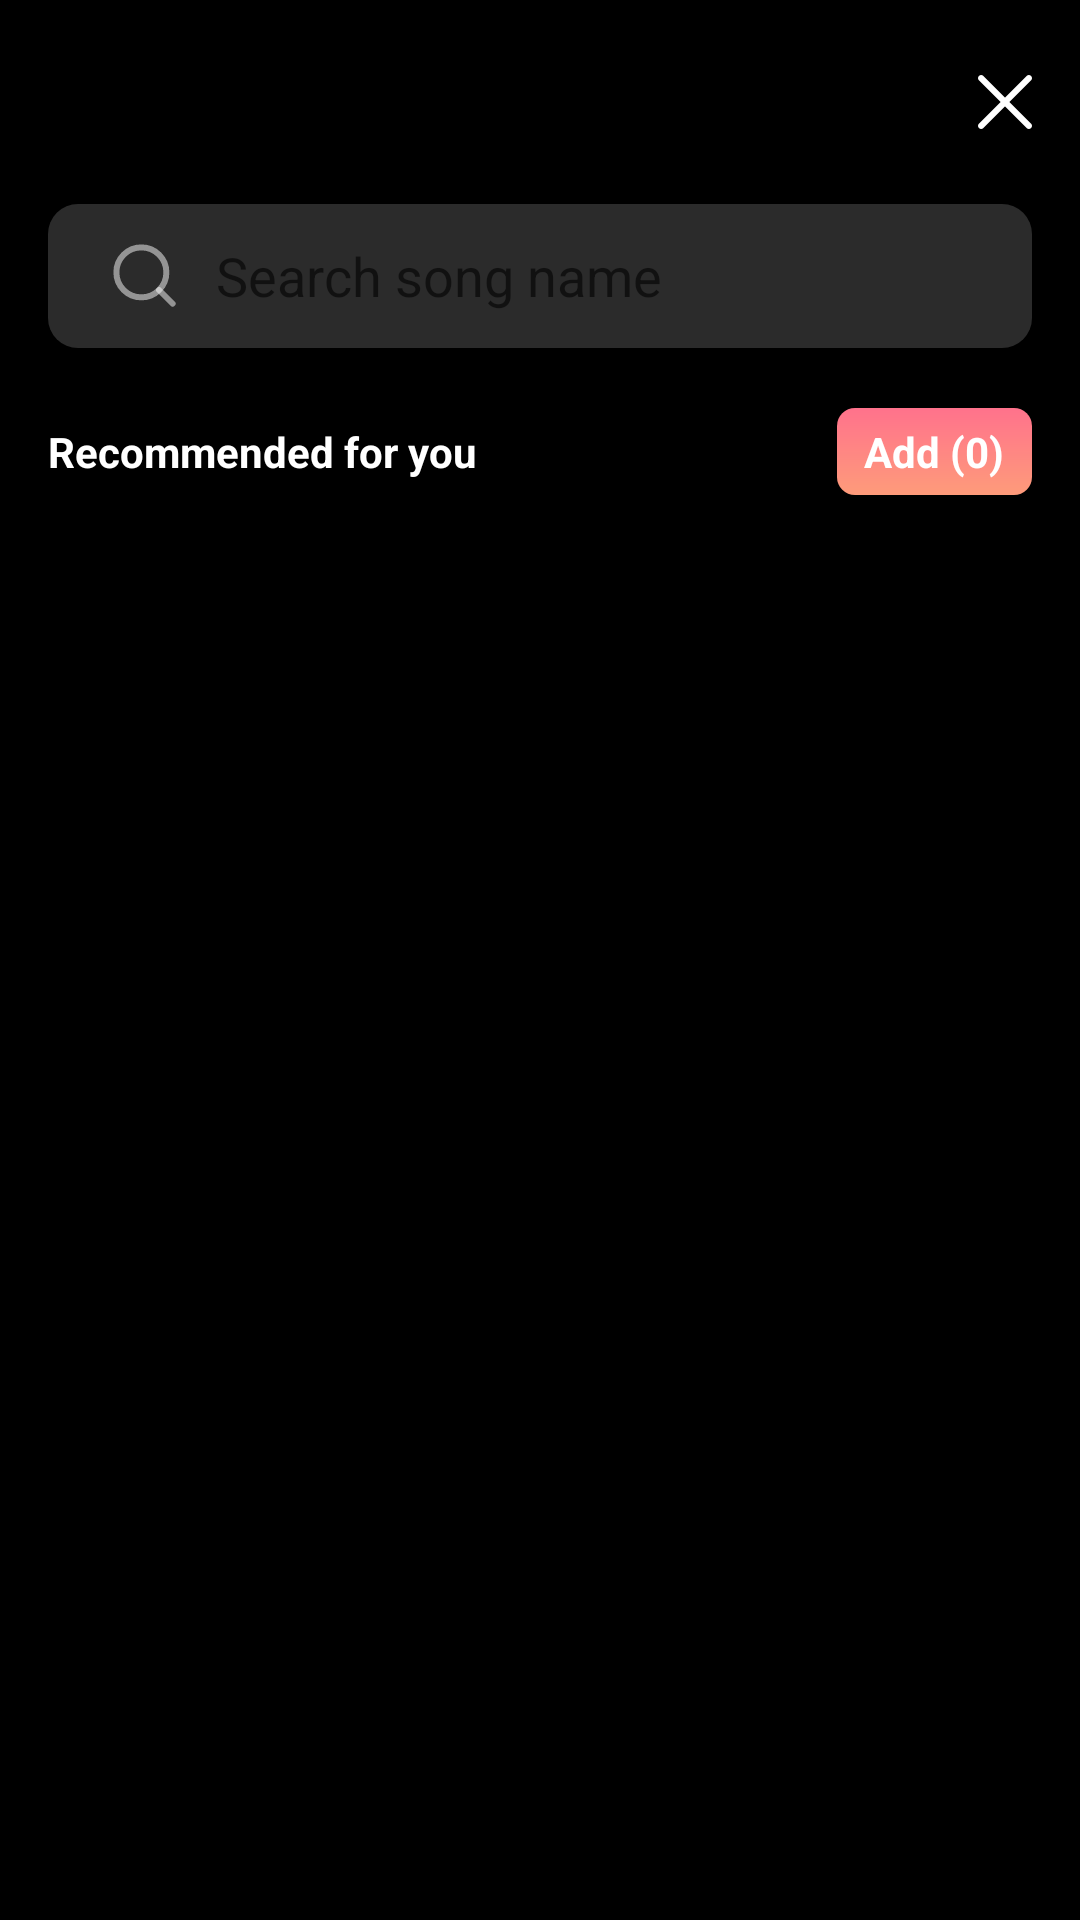

Named icons in this screenshot (1080x1920) and their bounding boxes, [x1,y1,x2,y2]:
close: [978,75,1032,129]
